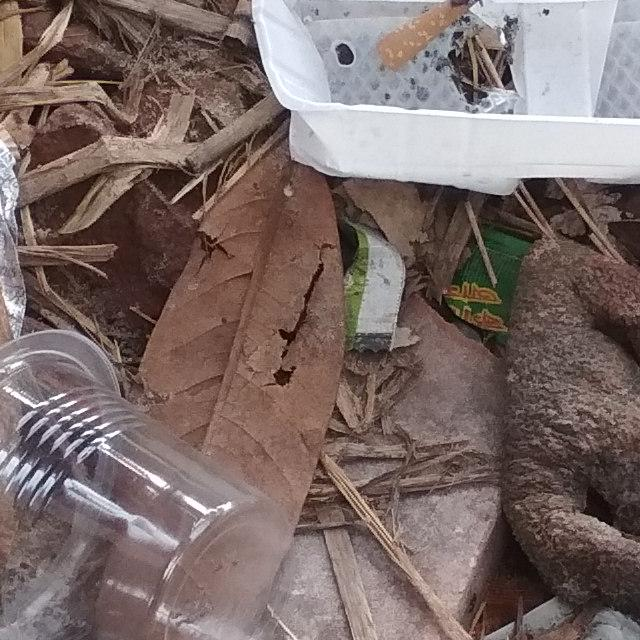plastic: (0, 292, 346, 640), (194, 0, 640, 201)
